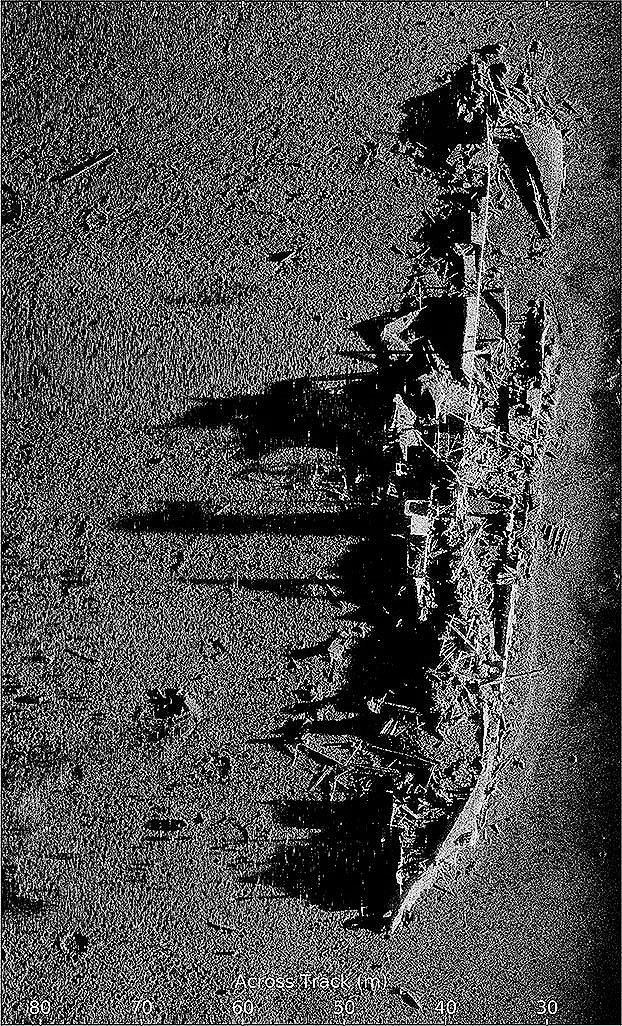ship: (283, 31, 568, 939)
